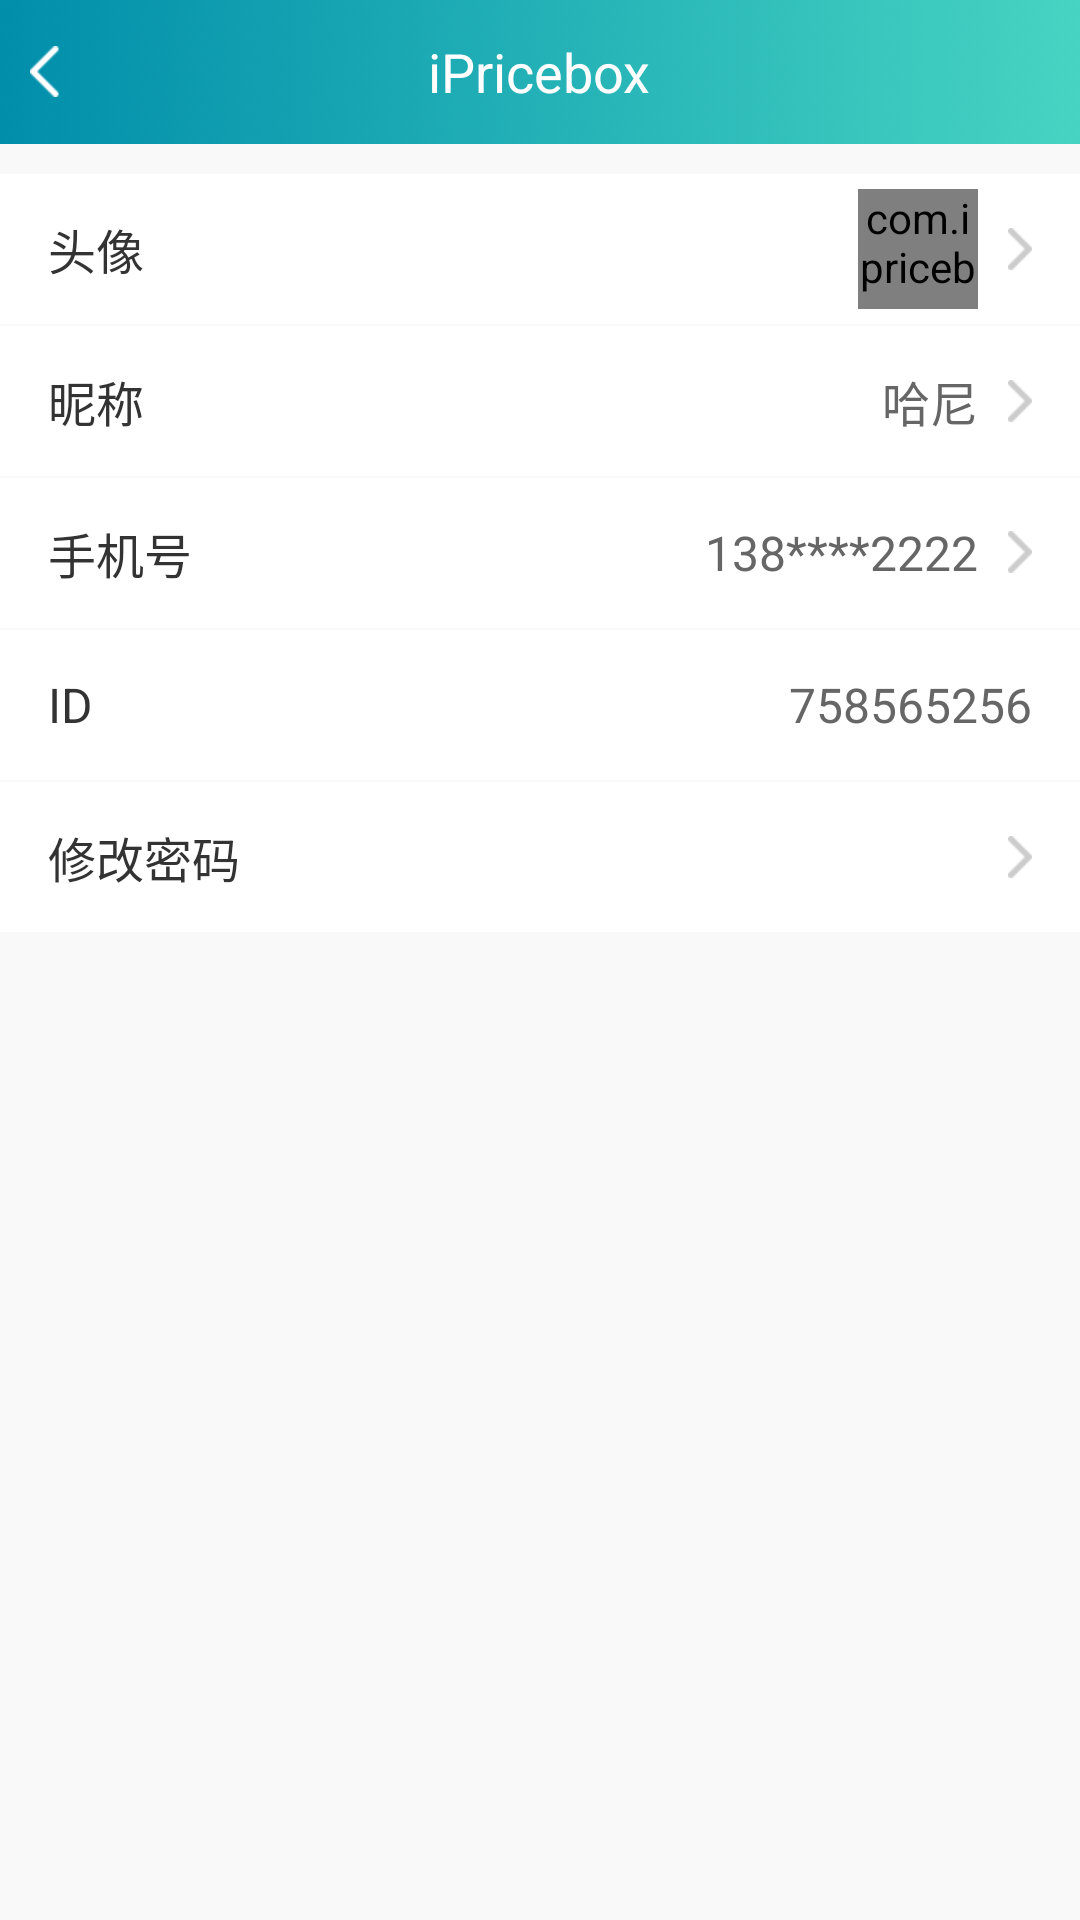

Named icons in this screenshot (1080×1920) and their centers, [x,y]:
arrow right: [1020,249], [1020,857]
back: [44,71]
